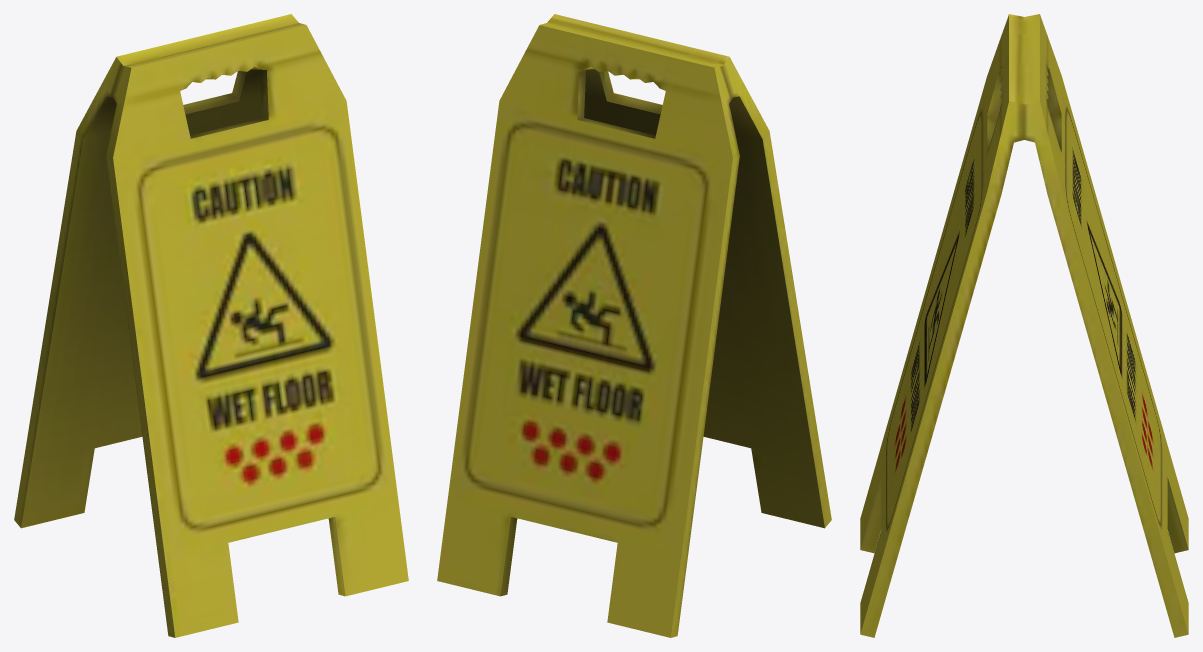
Rendered from wet_floor_sign.glb.
The picture shows the model from 3 angles, left to right: view 1: azimuth 30°, elevation 25°; view 2: azimuth 150°, elevation 25°; view 3: azimuth 270°, elevation 25°; orthographic projection.
Visible parts, largest first — view 1: wet_floor_sign; view 2: wet_floor_sign; view 3: wet_floor_sign.
Part boxes in pixels (left/top/right/bottom): wet_floor_sign: left=14, top=14, right=408, bottom=637; wet_floor_sign: left=437, top=14, right=831, bottom=637; wet_floor_sign: left=860, top=14, right=1188, bottom=637.
Size of the model in its own units: 0.3 by 0.6295 by 0.3585.
1 material, 1 textured.
